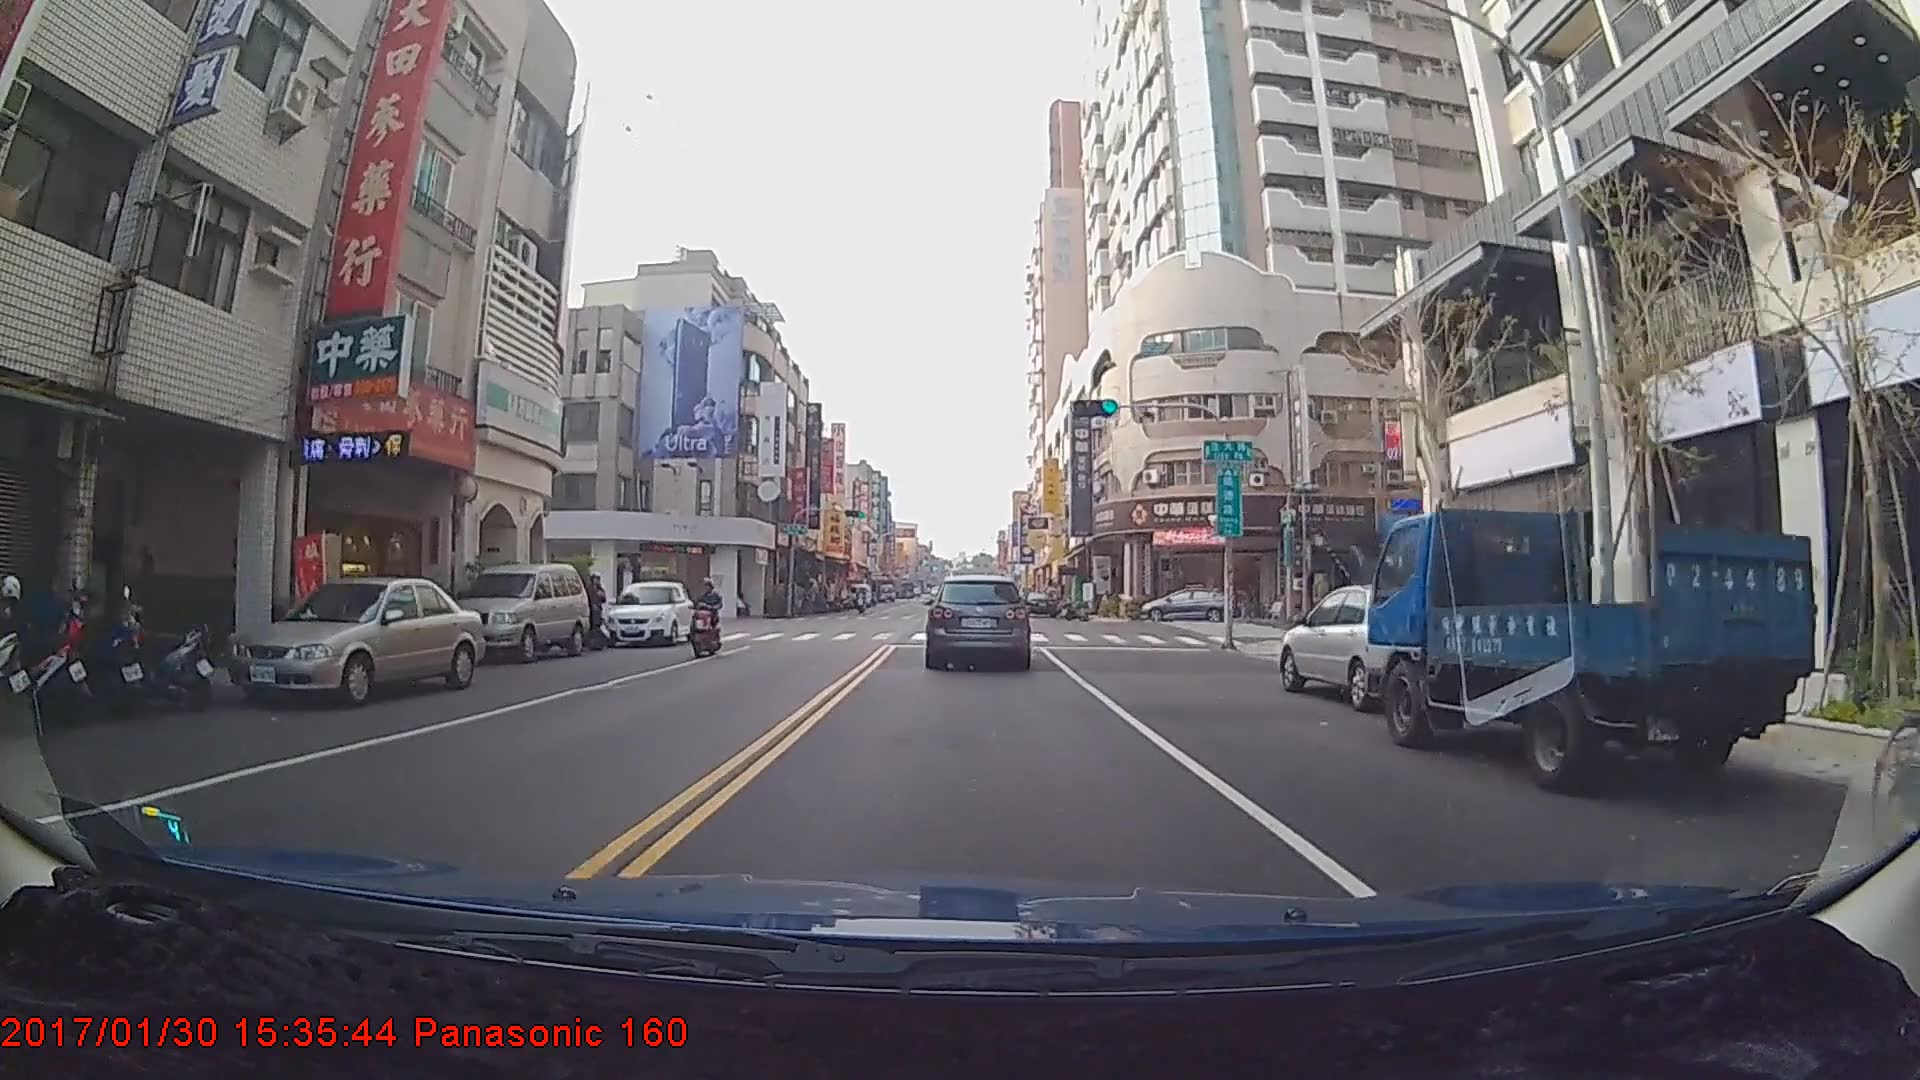rider: (686, 579, 726, 663)
vehicle: (1370, 504, 1813, 785), (226, 573, 484, 709), (1276, 581, 1457, 710), (441, 559, 591, 663), (925, 574, 1030, 669), (603, 579, 696, 648), (1137, 584, 1234, 620), (1022, 588, 1058, 616), (847, 579, 871, 607)
